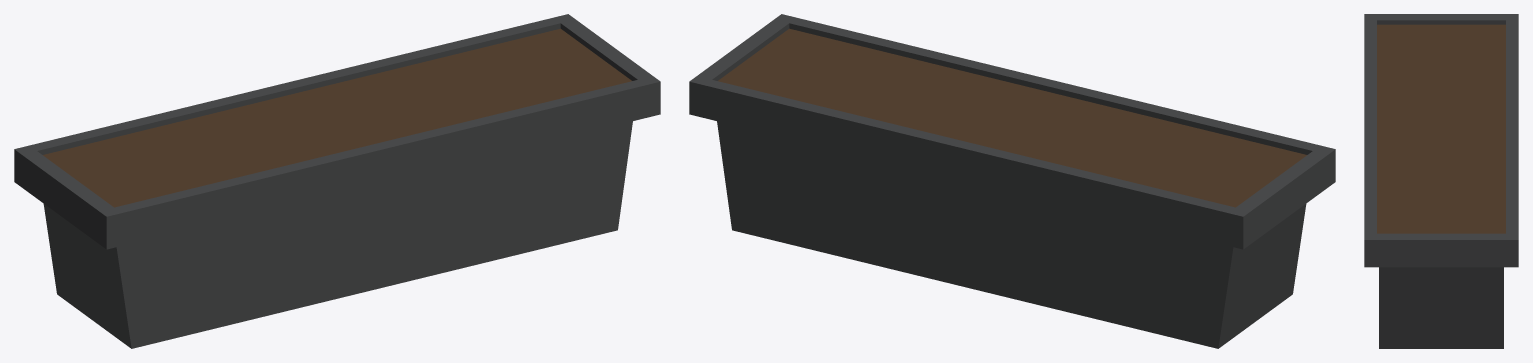
The model's file is SM_flowerbox_empty_01.fbx.
3 views of the same model, side by side, from view 1: azimuth 30°, elevation 25°; view 2: azimuth 150°, elevation 25°; view 3: azimuth 270°, elevation 25° (orthographic). The views are drawn at different scales.
Visible parts, largest first — view 1: Box121; view 2: Box121; view 3: Box121.
Part boxes in pixels (box(x1,y1,x2,y2)): Box121: box(14, 14, 660, 348); Box121: box(689, 14, 1335, 348); Box121: box(1364, 14, 1518, 348).
Size of the model in its own units: 27.7 by 8 by 7.02.
